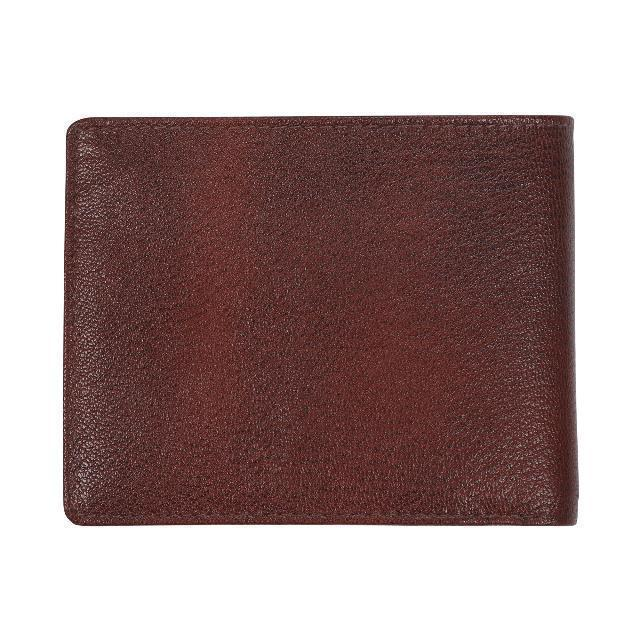wallet: (58, 107, 584, 531)
